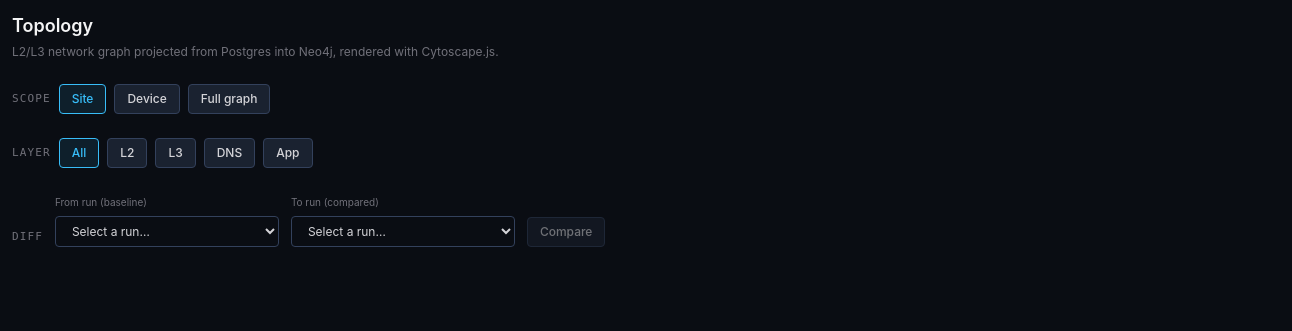
Test: TopologyPage — scoped-by-default loading › shows an error alert when the neighborhood device is unknown (404)
This screenshot has width=1292, height=331.
Click the button with test id "topology-scope-device" at [147, 99], box [114,84,180,114]
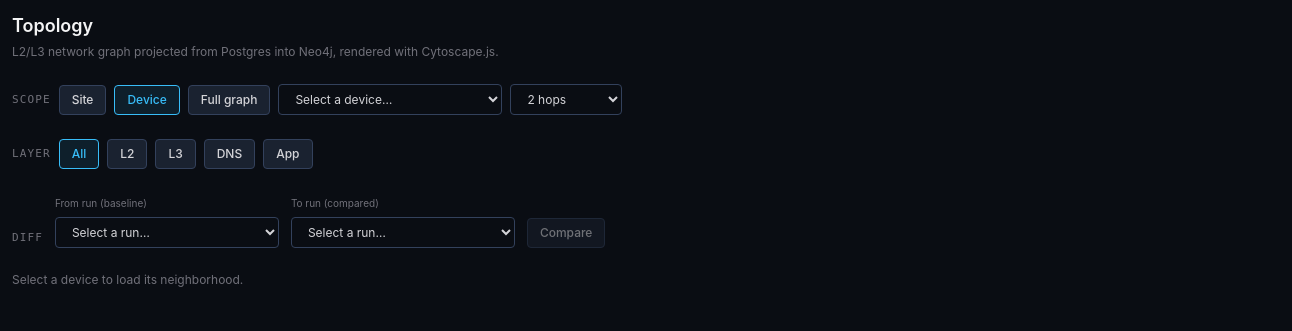
Select "core-sw-01" in the dropdown with test id "topology-device-select" at [390, 100], box [278,84,502,115]
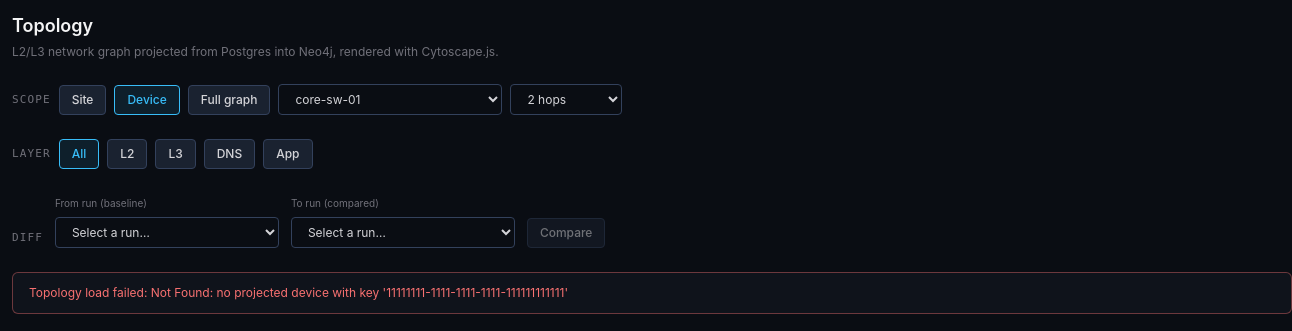
Check: the message shows "no projected device", box [29,285,568,300]
